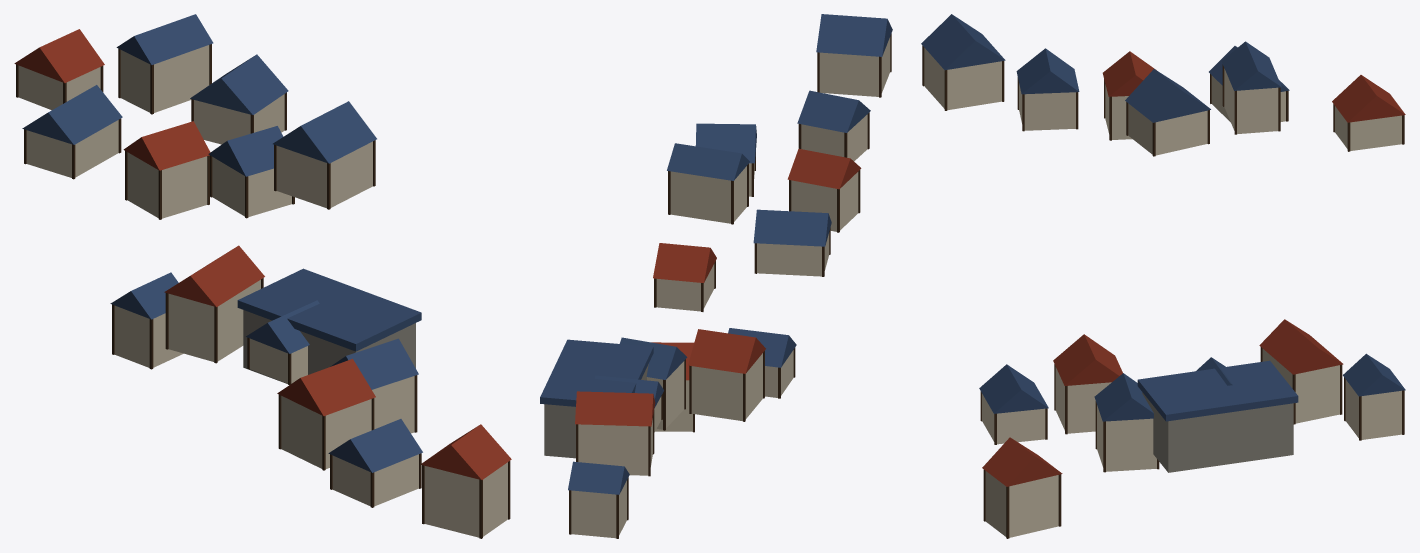
The model's file is coast_saltglass_landing.glb.
The picture shows the model from 3 angles, left to right: view 1: azimuth 30°, elevation 25°; view 2: azimuth 150°, elevation 25°; view 3: azimuth 270°, elevation 25°; orthographic projection. The views are drawn at different scales.
Parts seen in each view (by area): view 1: geometry_0; view 2: geometry_0; view 3: geometry_0.
Part boxes in pixels (x1,y1,x2,y2): geometry_0: (14,14,511,538); geometry_0: (540,14,892,538); geometry_0: (921,14,1405,538).
Bounding box in the file's own units: 48.2 × 63.15 × 65.95.
